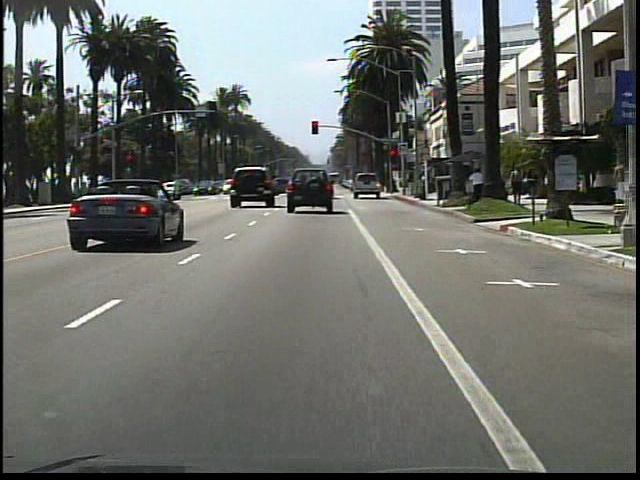person: (467, 165, 489, 206), (507, 161, 524, 208)
